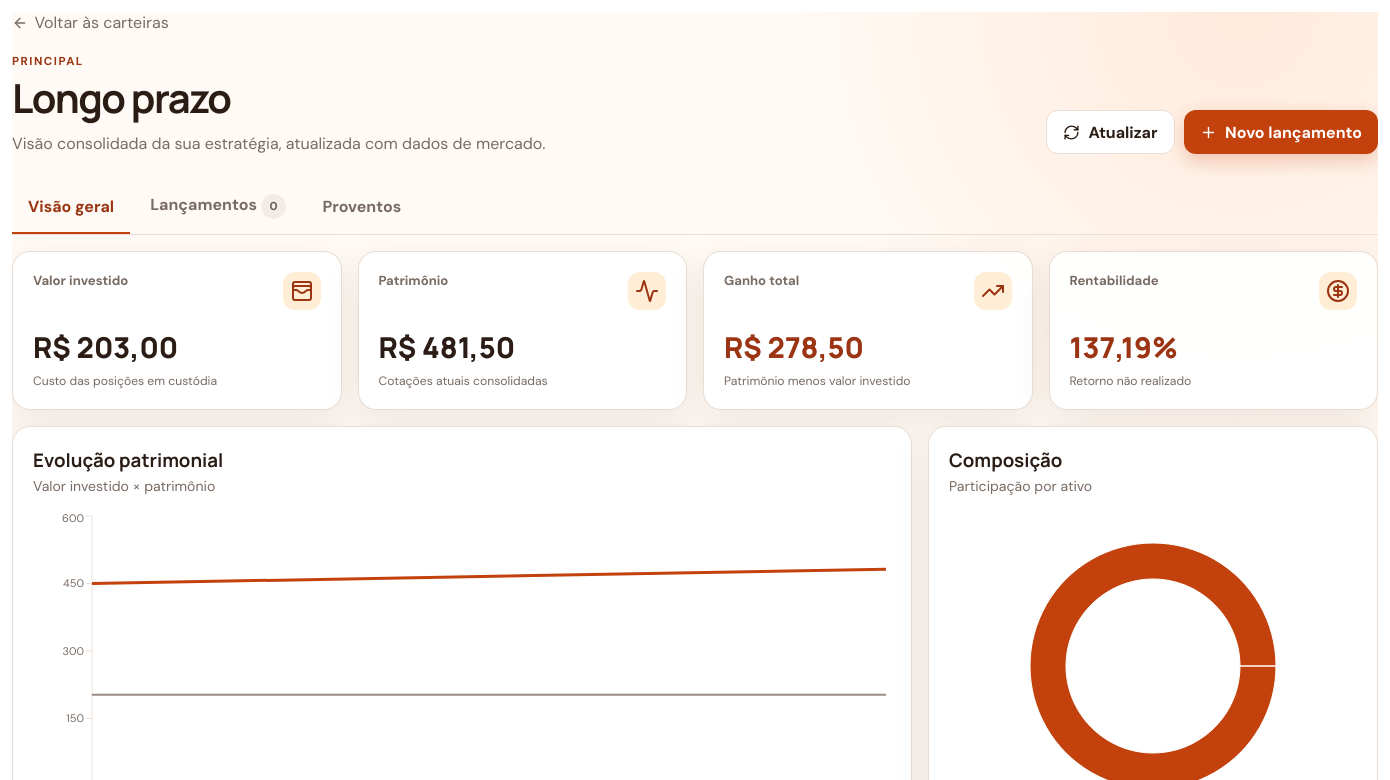
it: mantém candidatos visíveis quando parte dos proventos usa contingência
This screenshot has width=1390, height=780.
Click the button "Proventos": (362, 207) [306,181,417,234]
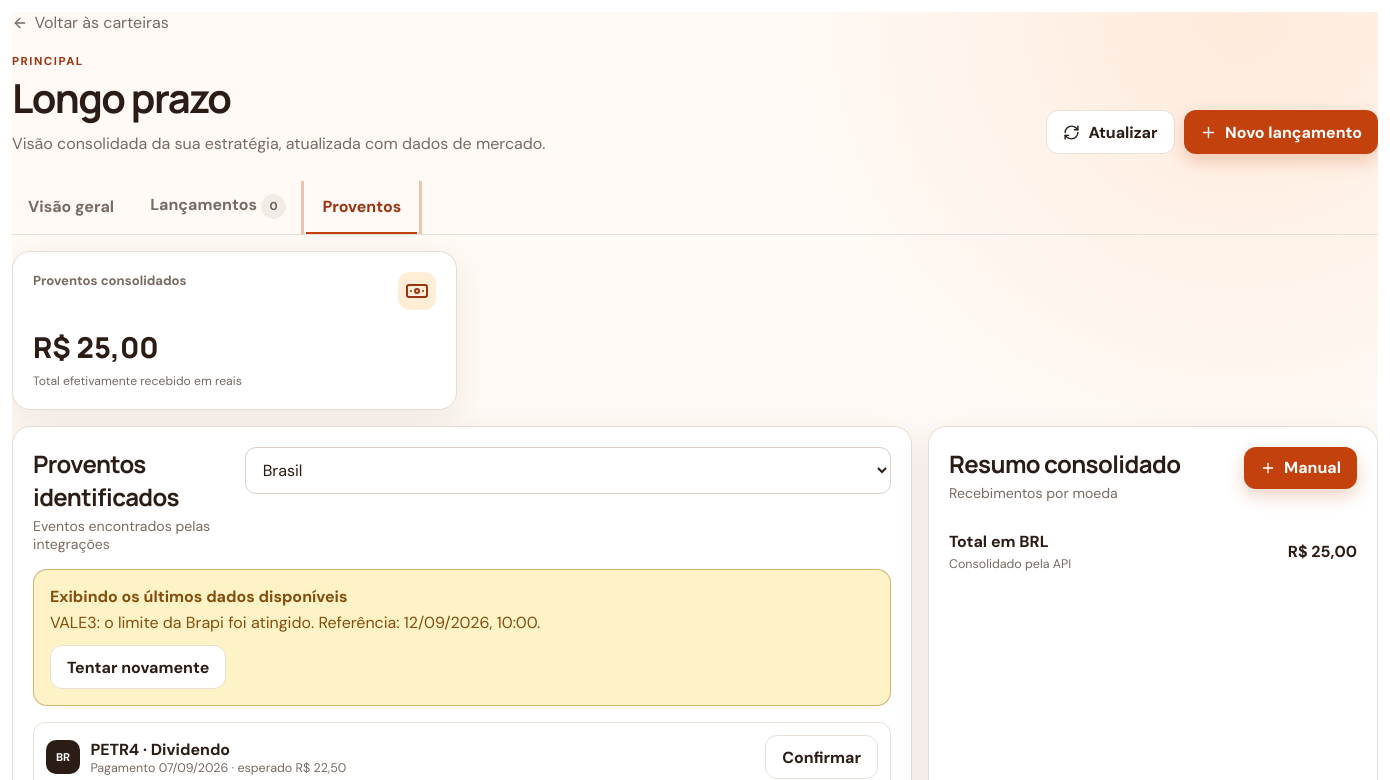
Check: the text "Exibindo os últimos dados disponíveis" is shown, box [50,586,348,607]
Check: the text "VALE3: o limite da Brapi" is shown, box [50,612,314,633]
Check: the button "Confirmar" is enabled, box [765,735,878,779]
